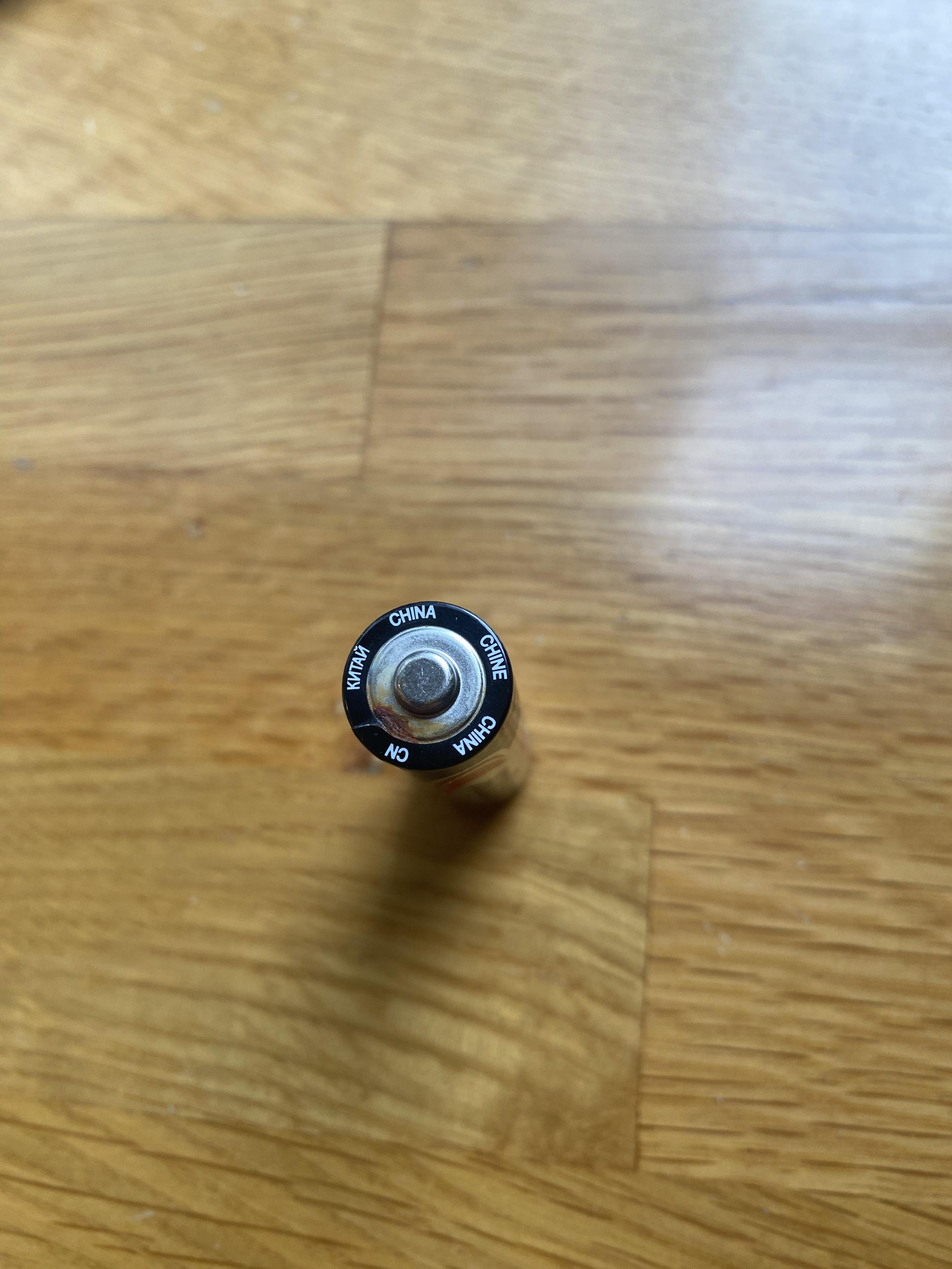AA: (340, 598, 532, 806)
